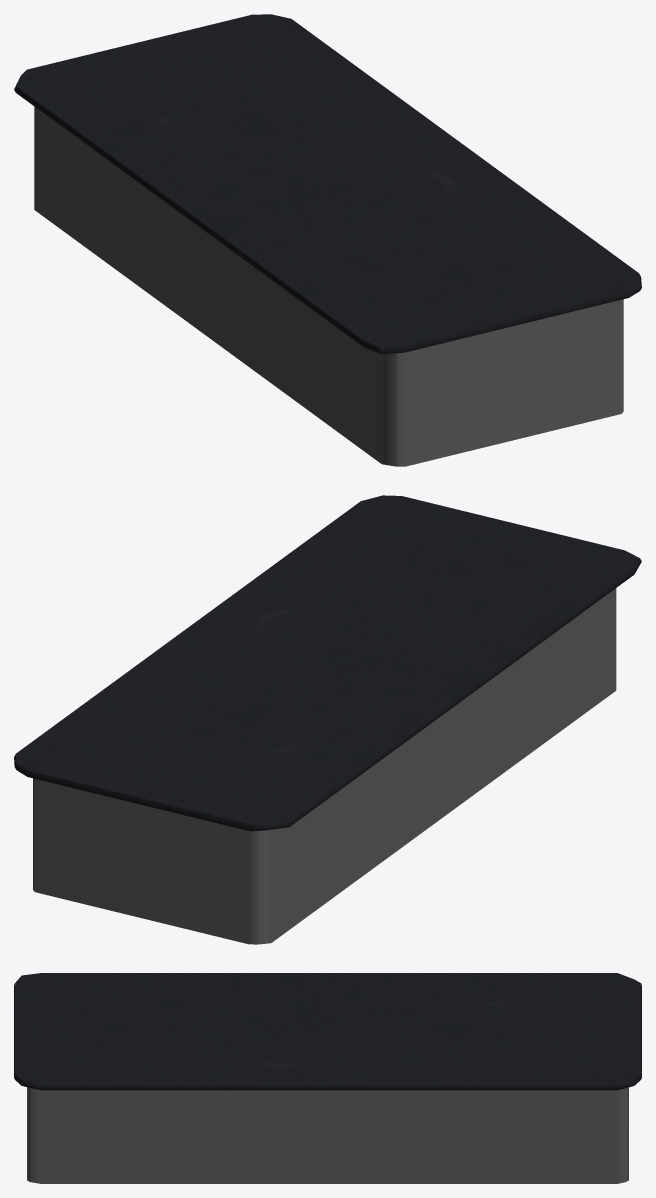
The model's file is ScienceWorkStationCounter.fbx.
3 views of the same model, one above another, from view 1: azimuth 30°, elevation 25°; view 2: azimuth 150°, elevation 25°; view 3: azimuth 270°, elevation 25° (orthographic). The views are drawn at different scales.
Visible parts, largest first — view 1: ScienceDesk_hs; view 2: ScienceDesk_hs; view 3: ScienceDesk_hs.
Part boxes in pixels (left/top/right/bottom): ScienceDesk_hs: left=14, top=14, right=641, bottom=466; ScienceDesk_hs: left=14, top=495, right=641, bottom=944; ScienceDesk_hs: left=14, top=973, right=641, bottom=1183.
Bounding box in the file's own units: 256 × 113 × 603.
